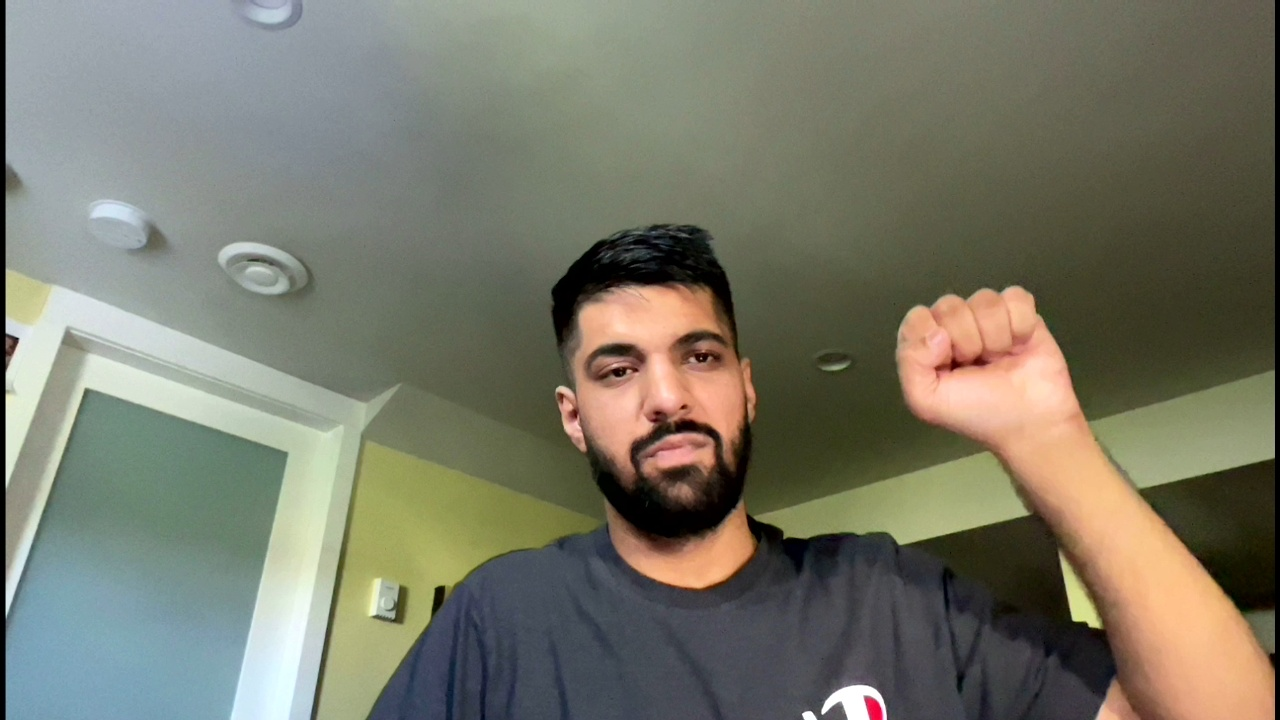No: (883, 277, 1099, 431)
